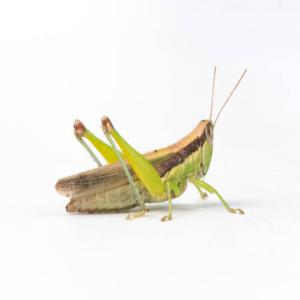locust: (54, 83, 242, 227)
